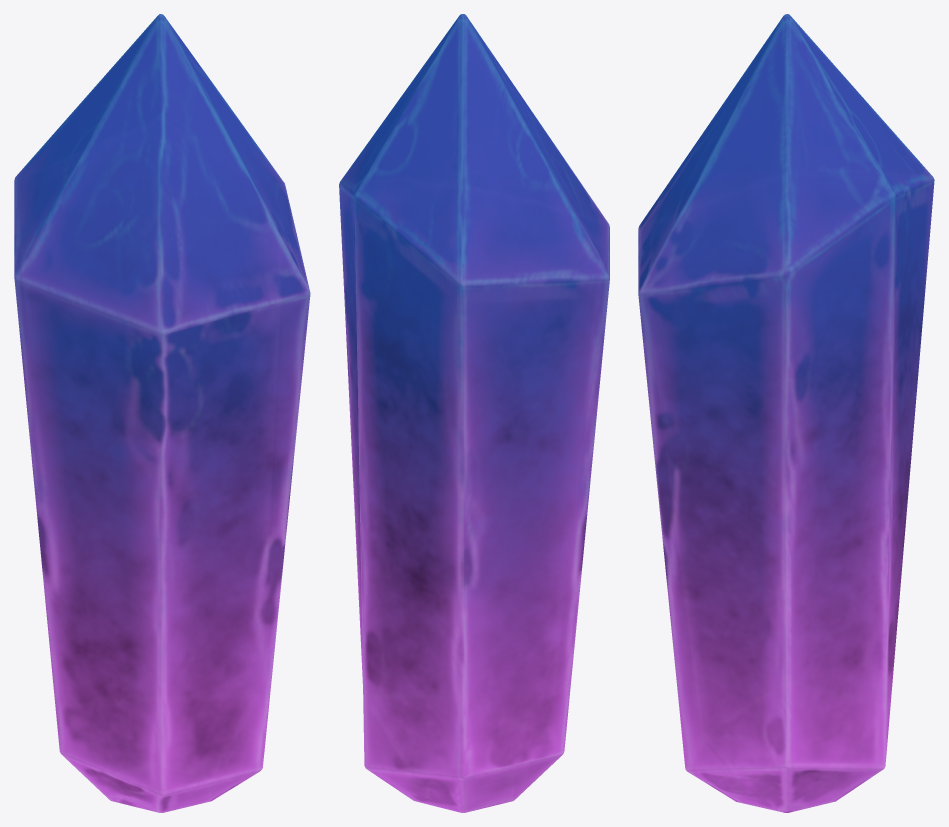
Rendered from lilpurp.gltf.
The picture shows the model from 3 angles, left to right: view 1: azimuth 30°, elevation 25°; view 2: azimuth 150°, elevation 25°; view 3: azimuth 270°, elevation 25°; orthographic projection.
Visible parts, largest first — view 1: CrystalShard_low1_lambert1_0; view 2: CrystalShard_low1_lambert1_0; view 3: CrystalShard_low1_lambert1_0.
Boxes of the visible parts, <box> form: CrystalShard_low1_lambert1_0: <box>14,14,310,812</box>; CrystalShard_low1_lambert1_0: <box>339,14,609,812</box>; CrystalShard_low1_lambert1_0: <box>638,14,934,812</box>.
Bounding box in the file's own units: 0.2452 × 0.6727 × 0.233.
Materials: 1 (1 with a texture image).
